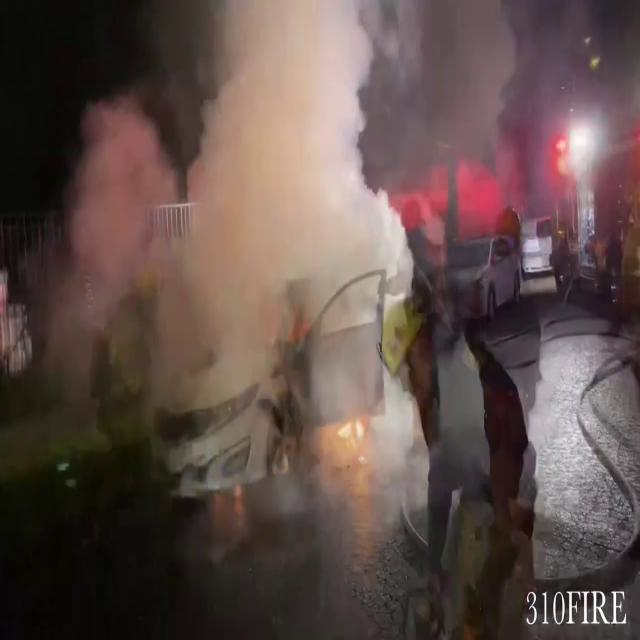Fire: (328, 401, 368, 462)
Smoke: (29, 0, 420, 536)
